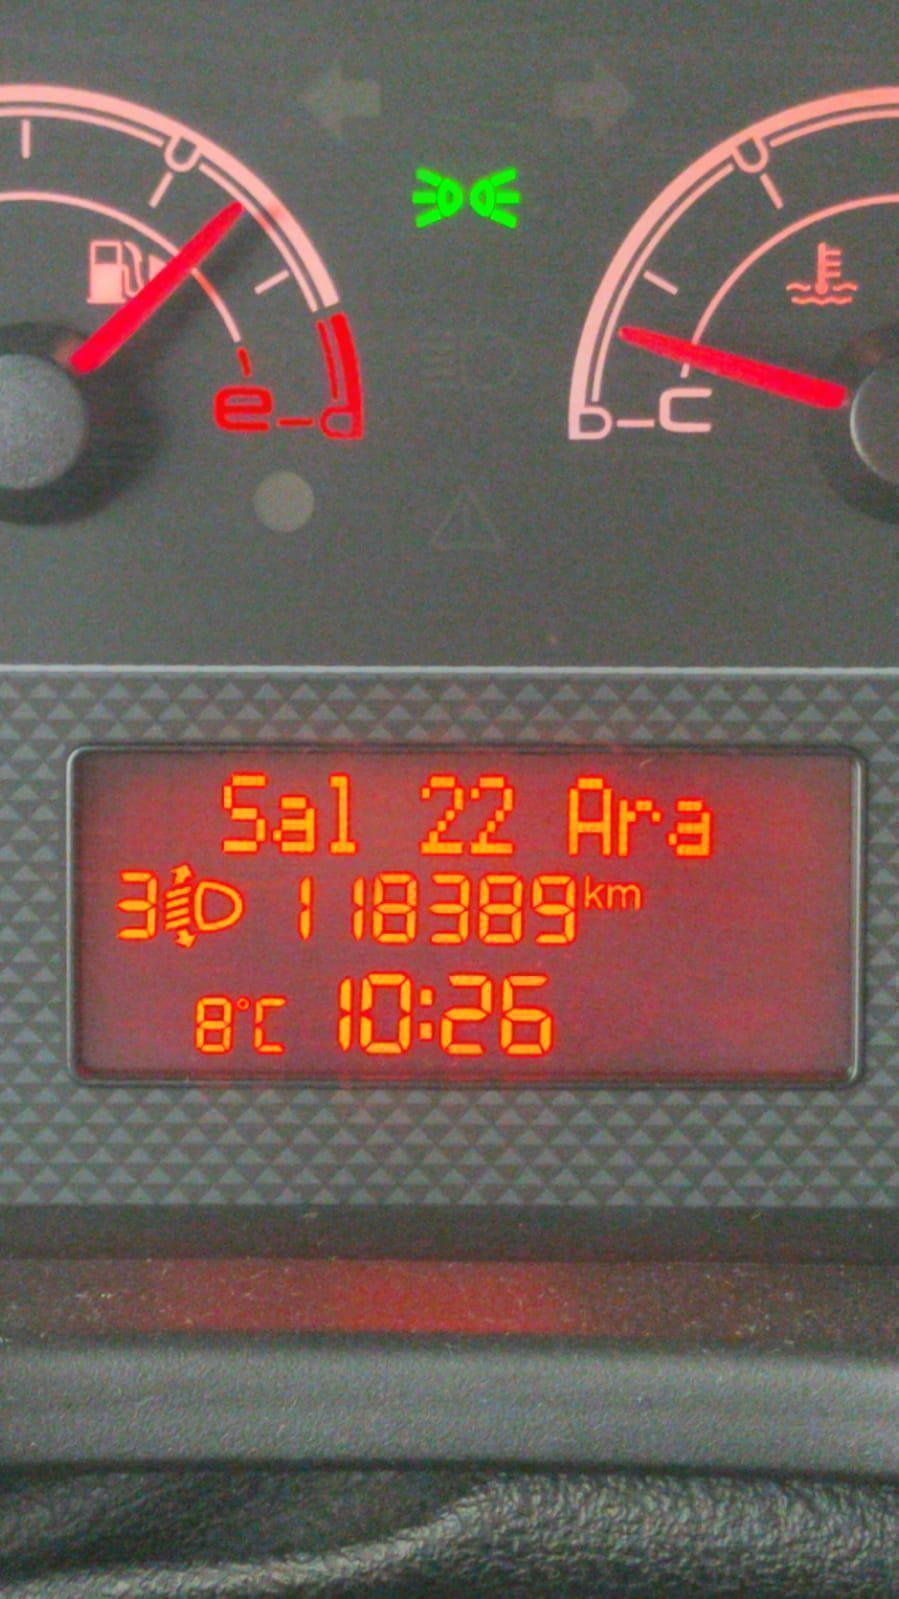0: (357, 968, 413, 1060)
1: (293, 870, 323, 951), (334, 969, 353, 1061), (347, 870, 366, 948)
2: (440, 968, 495, 1061), (418, 765, 464, 858), (470, 771, 519, 853)
3: (113, 864, 160, 944), (427, 871, 473, 947)
6: (502, 966, 557, 1062)
8: (475, 869, 526, 949), (371, 868, 419, 950), (191, 991, 232, 1061)
9: (533, 865, 576, 950)
X: (563, 770, 618, 857), (213, 769, 267, 854), (325, 765, 367, 857), (271, 785, 321, 858), (619, 792, 665, 865), (667, 793, 715, 864), (251, 989, 295, 1059), (606, 876, 649, 919), (413, 979, 434, 1050), (582, 866, 604, 917)
odometer: (57, 729, 877, 1102)
